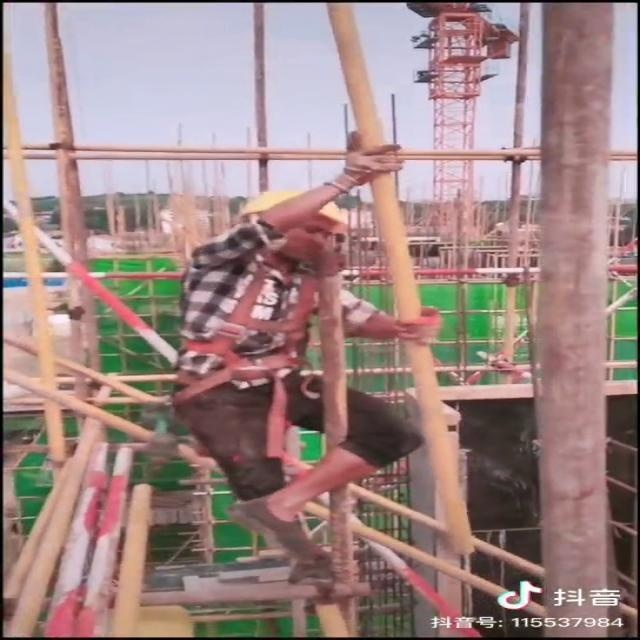Arnes_seguridad: (164, 242, 325, 407)
